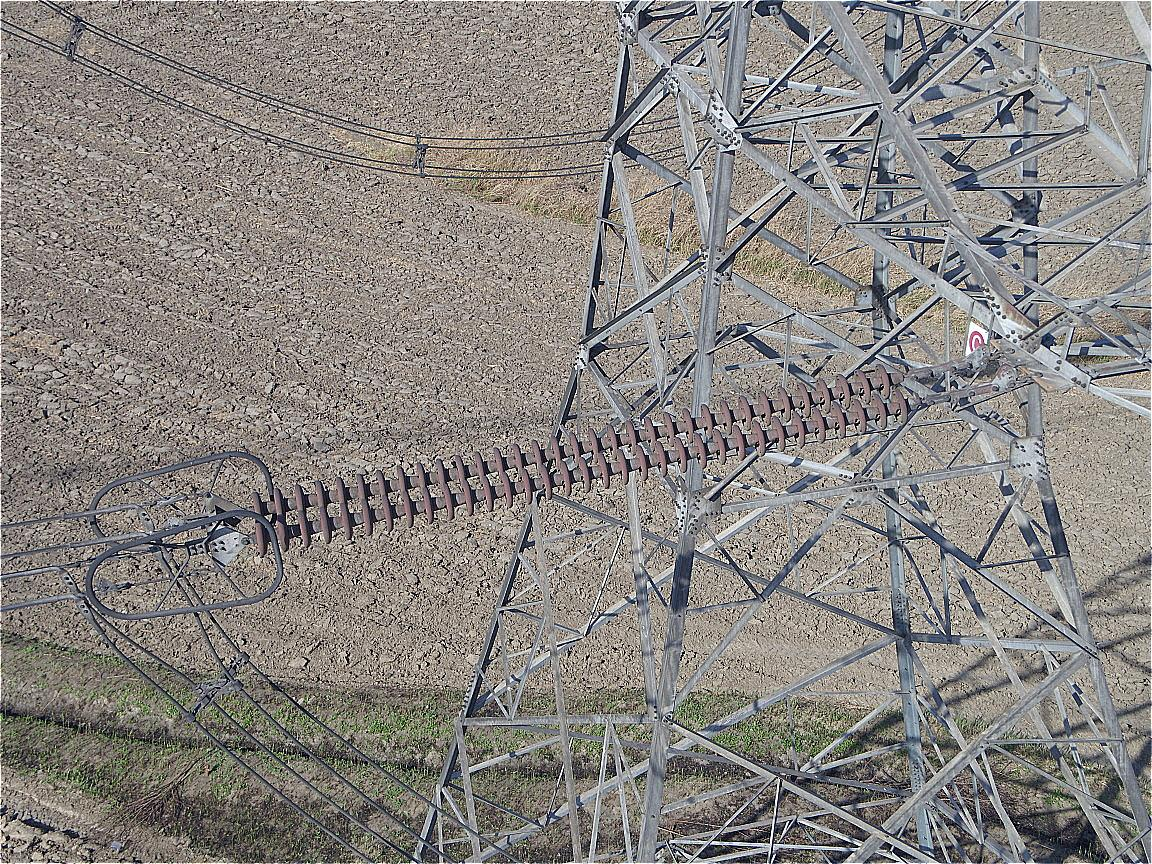insultor1: (249, 362, 911, 560)
